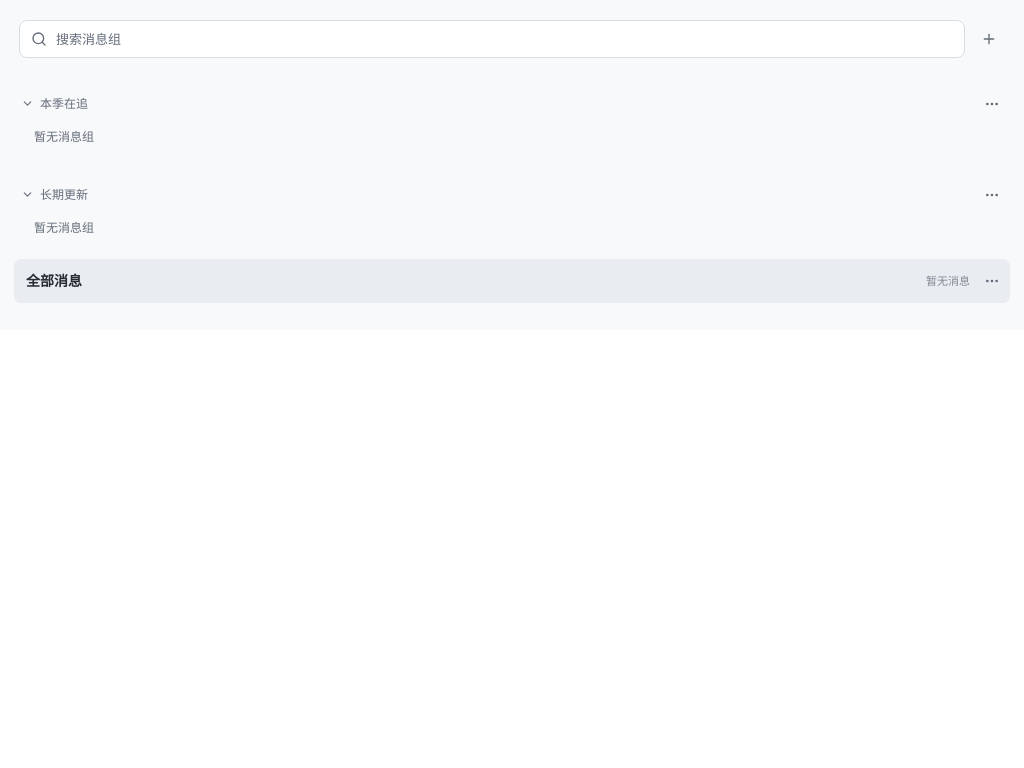
Test case: FilterPanel › keeps directory ordering errors in place and supports retry without reopening
This screenshot has width=1024, height=768.
Click the button named "目录 长期更新的操作": (992, 194) [978,180,1006,208]
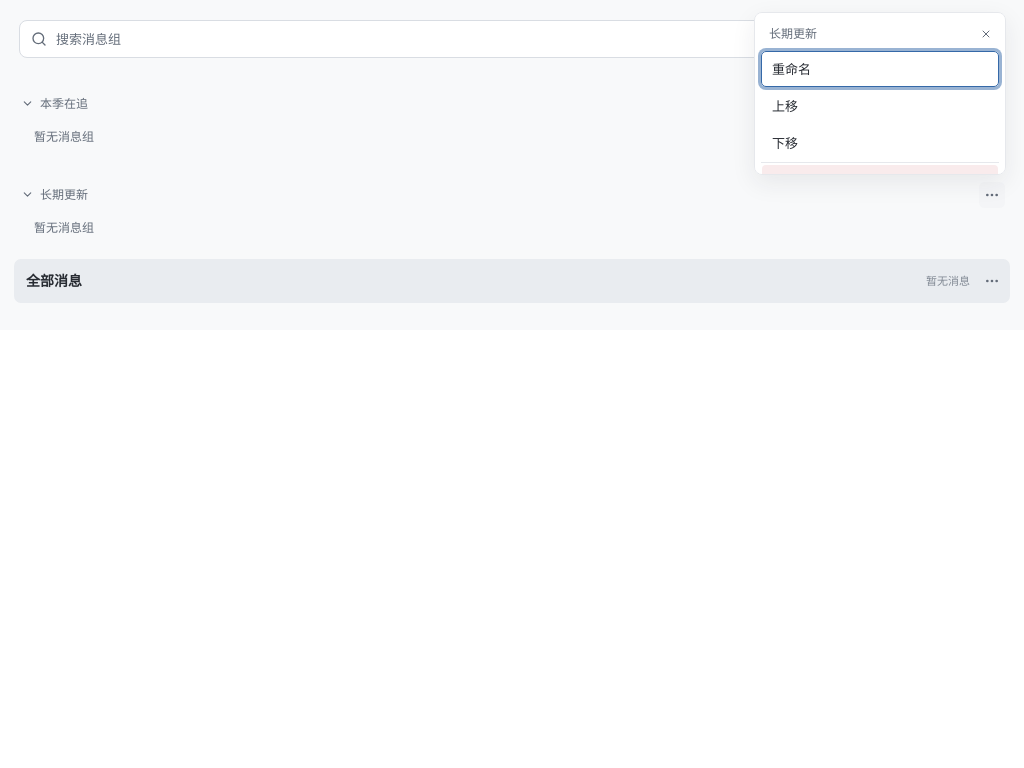
Click the button "上移": (880, 106) [761,88,999,124]
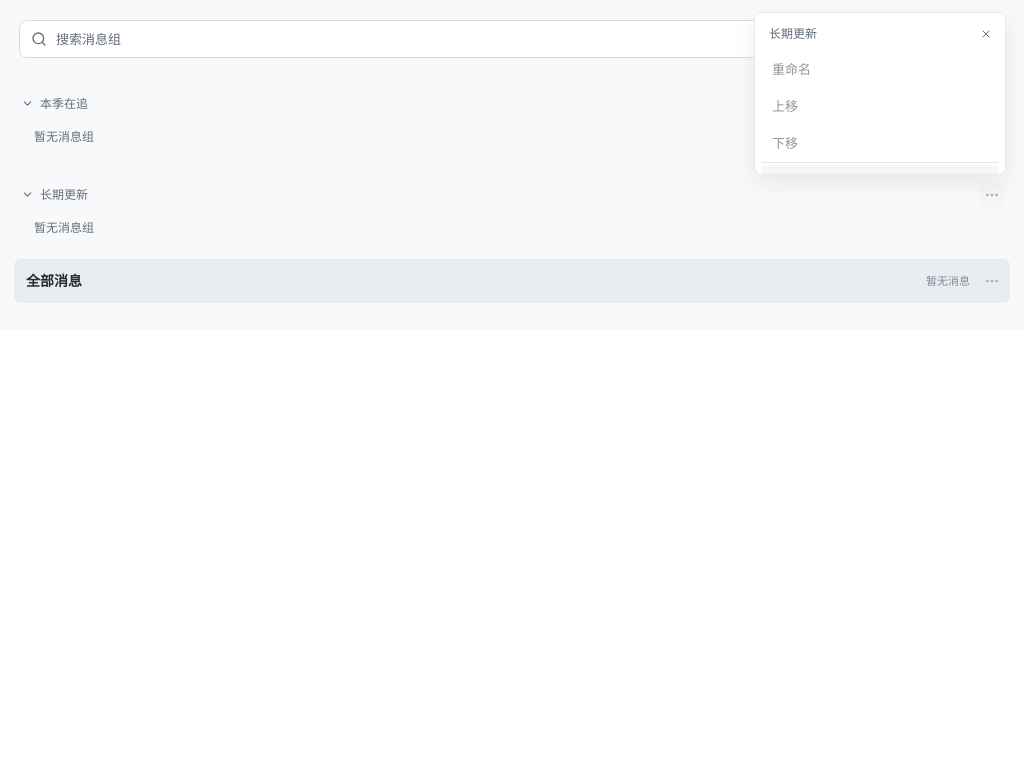
Now the button "上移" is disabled, box [761,88,999,124]
Now the button "下移" is disabled
Click the button "下移": (880, 143) [761,125,999,161]
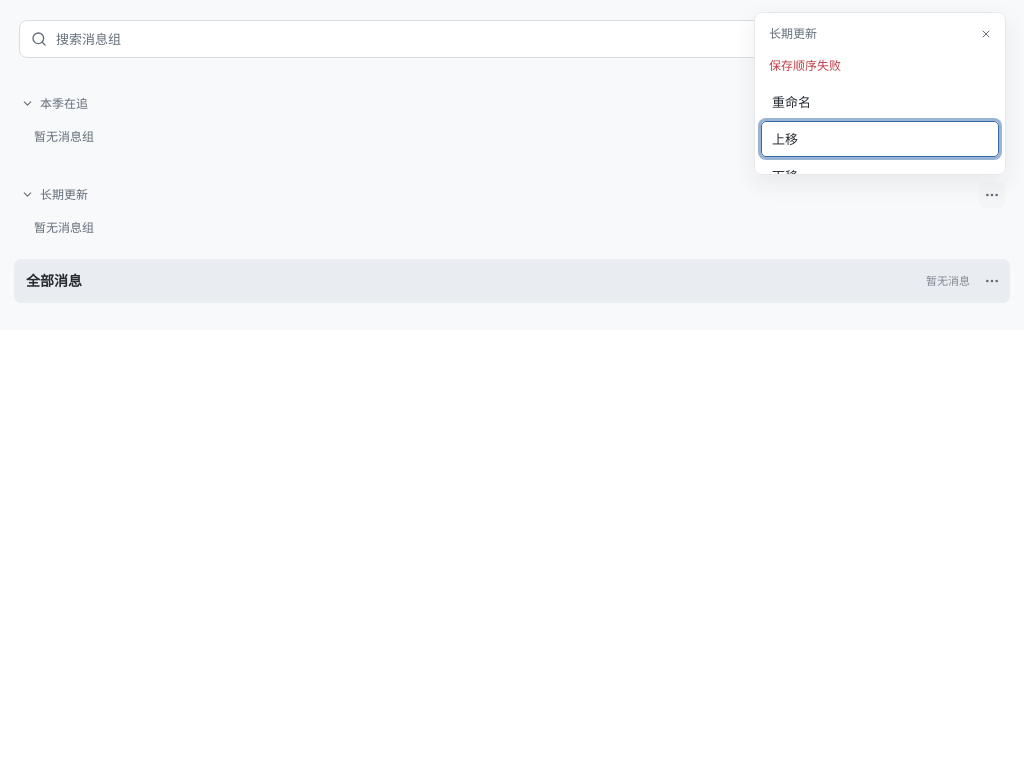
Expected: the headings read "本季在追", "长期更新", in this order, [40,94,88,114]; [40,184,88,204]
Now the message reads "保存顺序失败", box [769,57,841,74]
Now the button "上移" is enabled
Click the button "上移": (880, 139) [761,121,999,157]
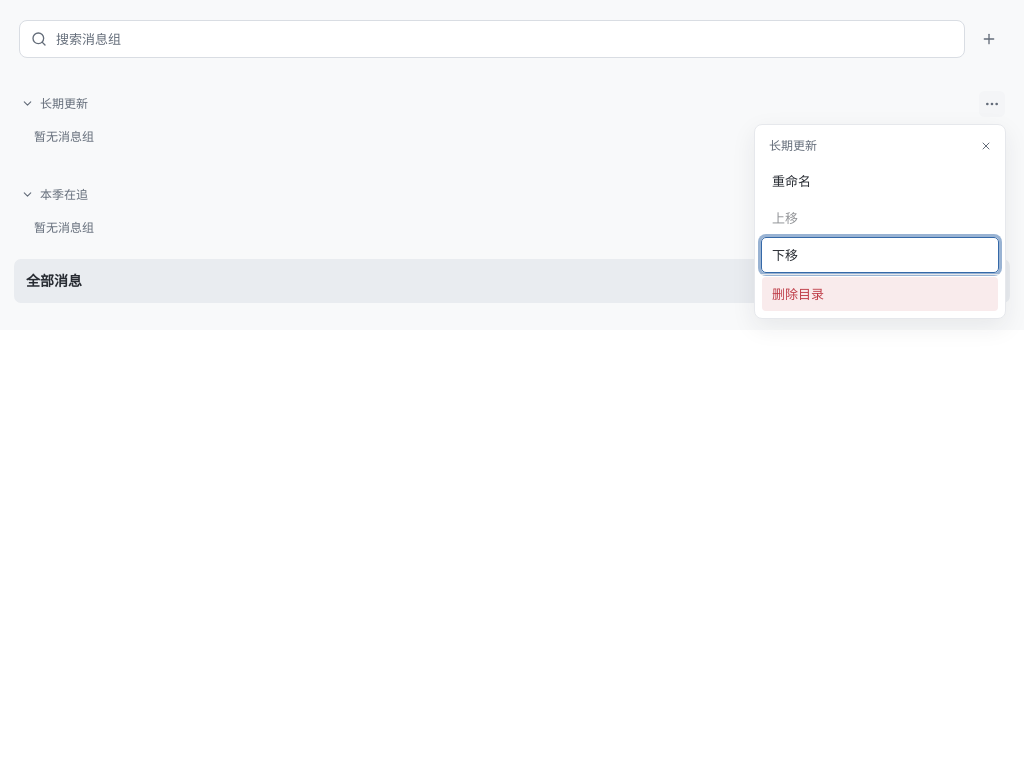
Now the button "下移" is enabled
Now the button "上移" is disabled, box [761,200,999,236]
Now the message "保存顺序失败" is gone
Click the button "下移": (880, 255) [761,237,999,273]
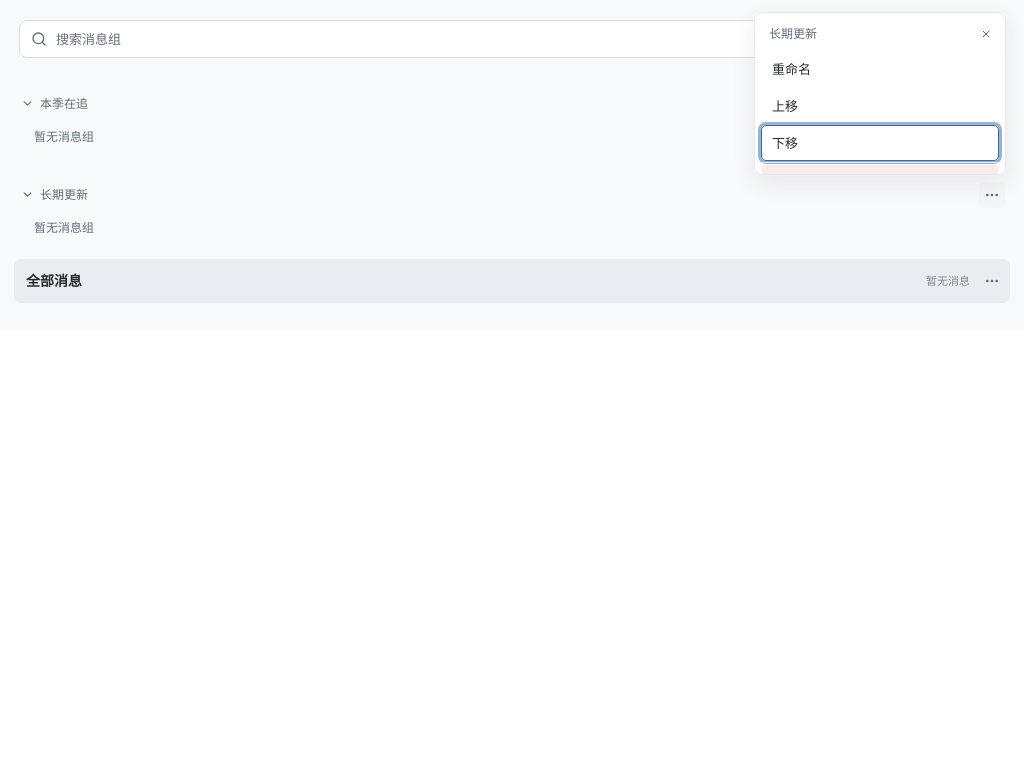
Now the button "上移" is enabled, box [761,88,999,124]
